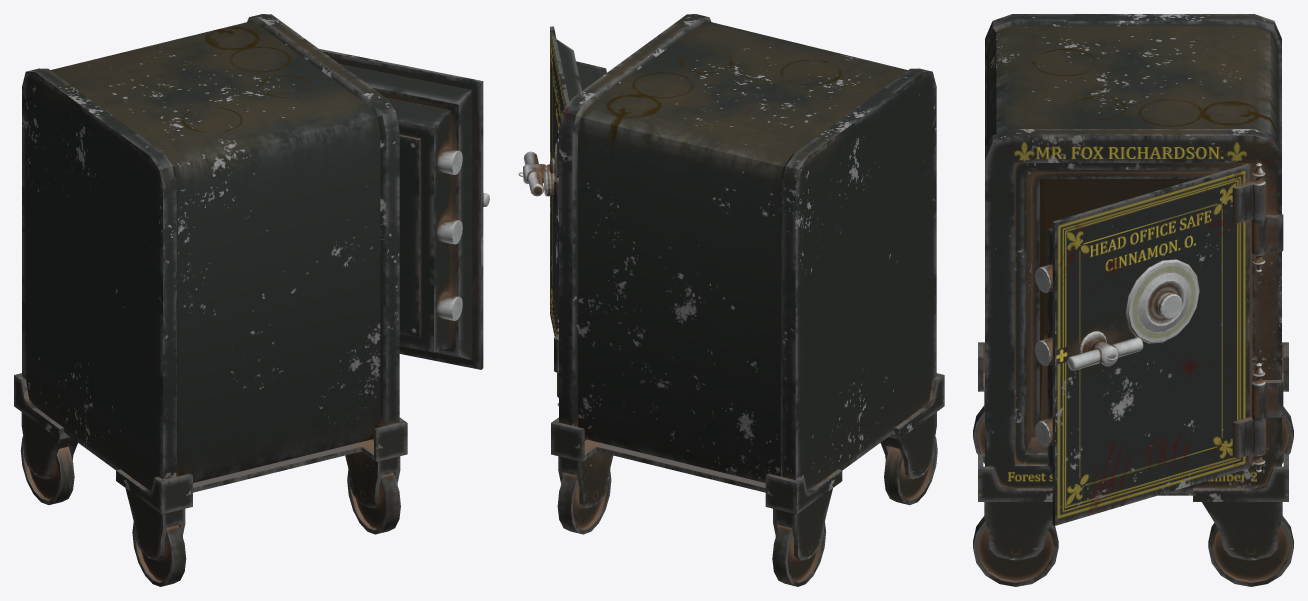
Rendered from OldSafe.fbx.
3 renders of one model, left to right at view 1: azimuth 30°, elevation 25°; view 2: azimuth 150°, elevation 25°; view 3: azimuth 270°, elevation 25°, orthographic. The views are drawn at different scales.
Parts seen in each view (by area): view 1: Object_2.001, Object_2; view 2: Object_2.001, Object_2; view 3: Object_2.001, Object_2.
Part boxes in pixels (x1,y1,x2,y2): Object_2.001: (14, 14, 407, 586); Object_2: (319, 49, 489, 369); Object_2.001: (551, 14, 944, 586); Object_2: (518, 26, 606, 406); Object_2.001: (973, 14, 1293, 586); Object_2: (1035, 163, 1266, 525).
Bounding box in the file's own units: 98.18 × 108 × 69.17.
